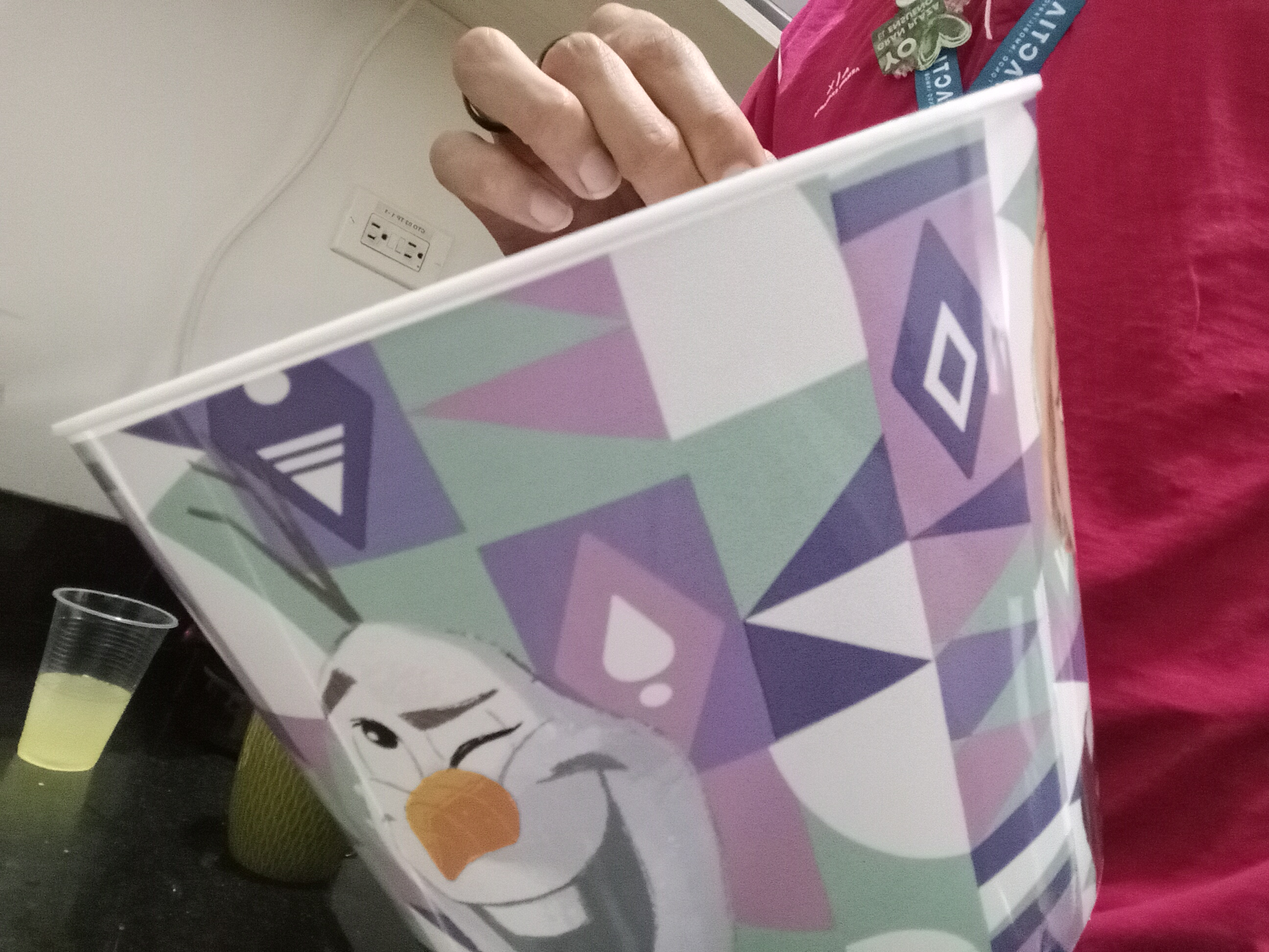Plastico: (50, 73, 1110, 952), (19, 588, 175, 774)
